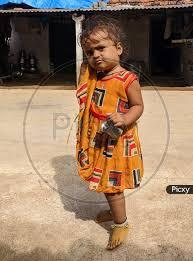Human: (63, 17, 131, 234)
